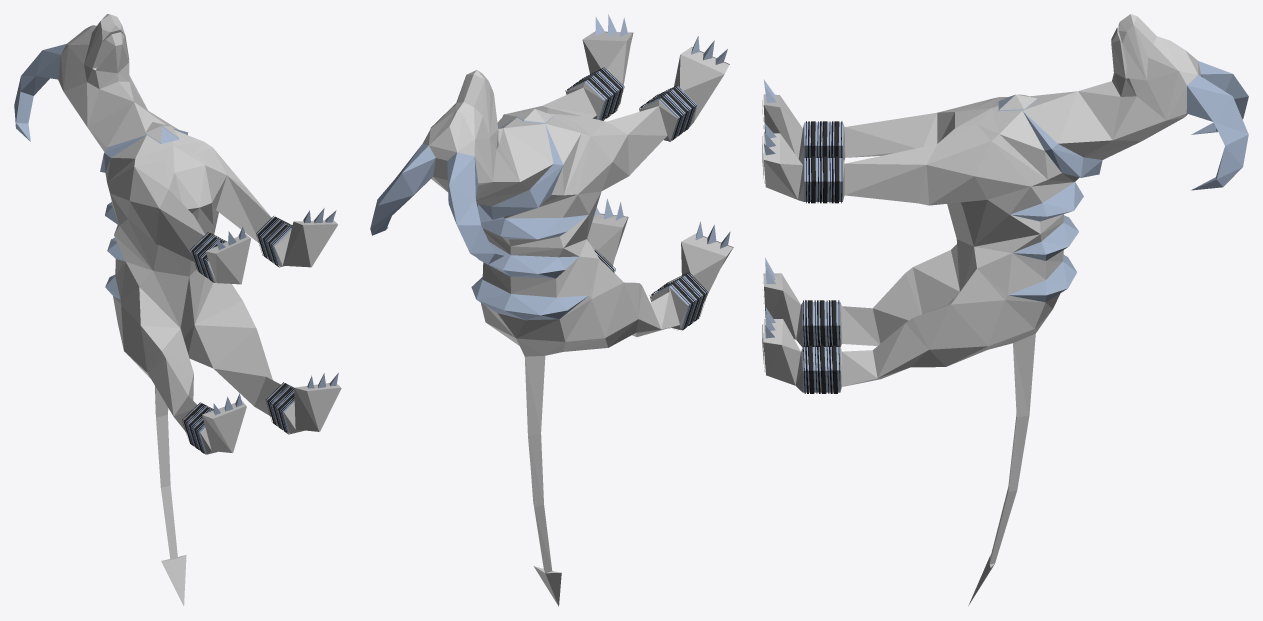
Rendered from BR_Houndoom.obj.
3 renders of one model, left to right at view 1: azimuth 30°, elevation 25°; view 2: azimuth 150°, elevation 25°; view 3: azimuth 270°, elevation 25°, orthographic. The views are drawn at different scales.
Visible parts, largest first — view 1: hellgar; view 2: hellgar; view 3: hellgar.
Boxes of the visible parts, left/top/right/bottom form: hellgar: left=14, top=14, right=341, bottom=605; hellgar: left=370, top=14, right=733, bottom=606; hellgar: left=762, top=14, right=1248, bottom=605.
Bounding box in the file's own units: 4.89 × 18.86 × 14.04.
